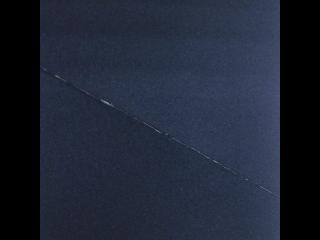crack: (39, 64, 281, 200)
